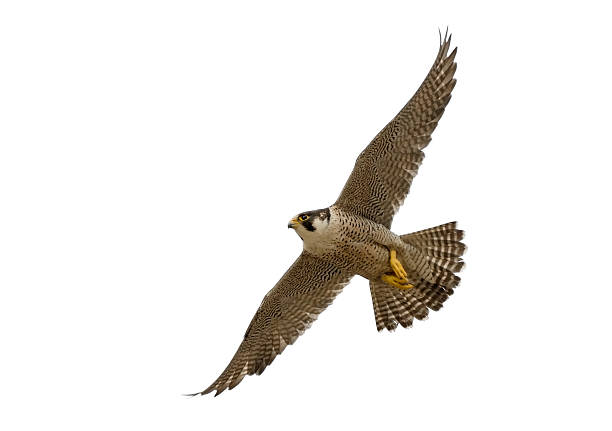Bird: (179, 23, 469, 399)
